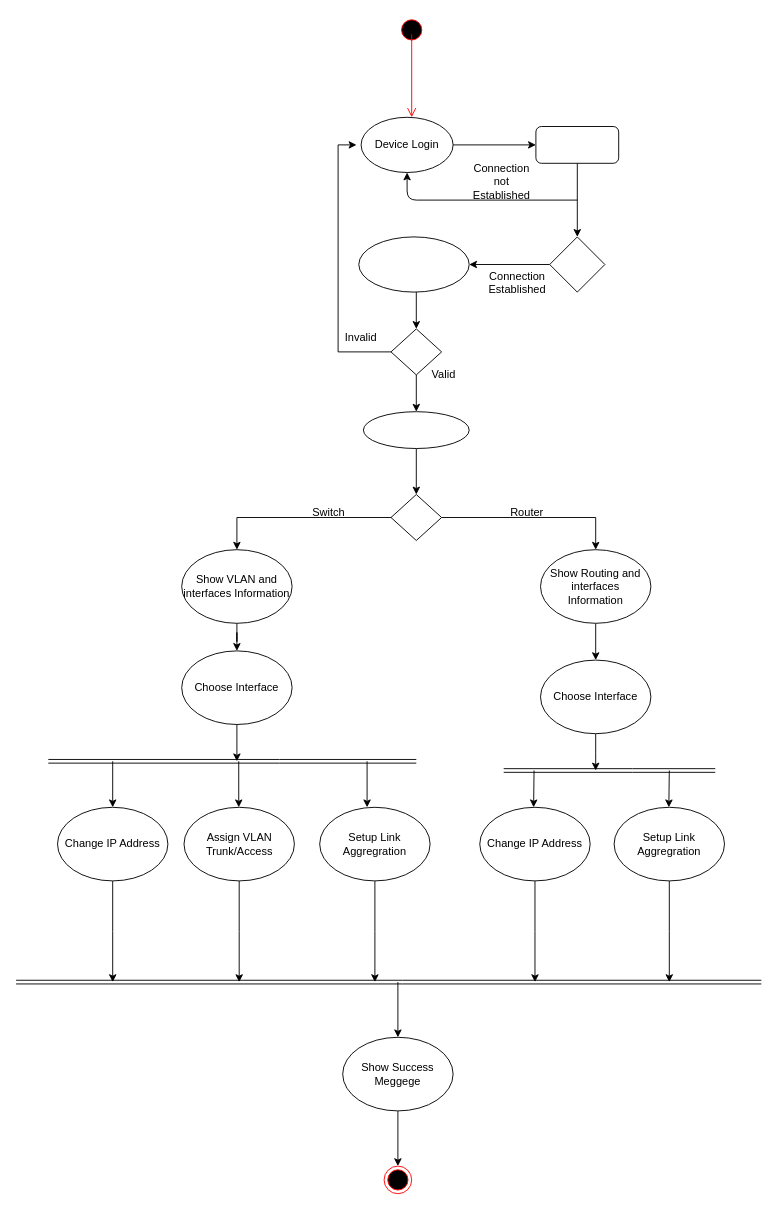
This 777x1210 diagram has some shape labels left out. The centre of each missing label's shape, as x and y in pixels:
"Authentication" goes at pixel 413 264.
"Check Device Type" goes at pixel 415 429.
"Establish SSH Connection" goes at pixel 577 144.
